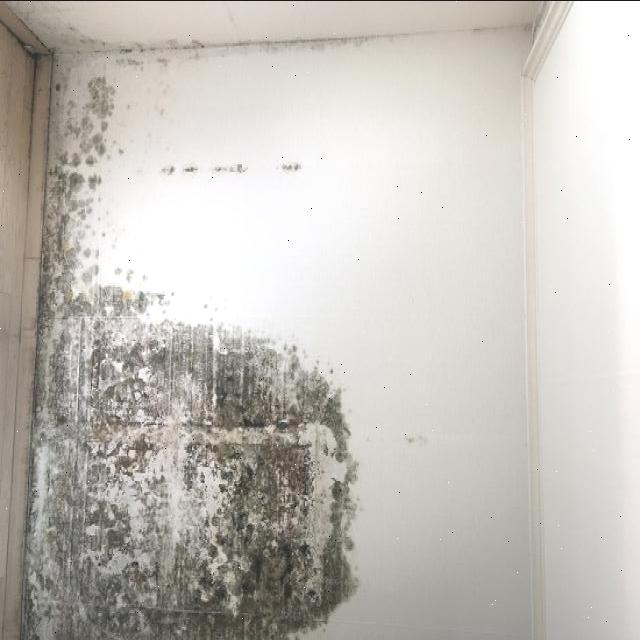crack: (521, 63, 548, 633), (89, 33, 476, 58)
dampness: (22, 73, 361, 638)
